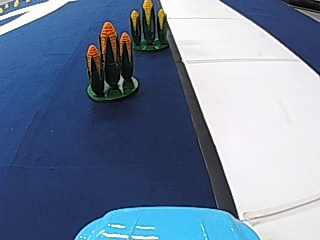corn: (84, 19, 140, 101), (127, 0, 171, 50)
